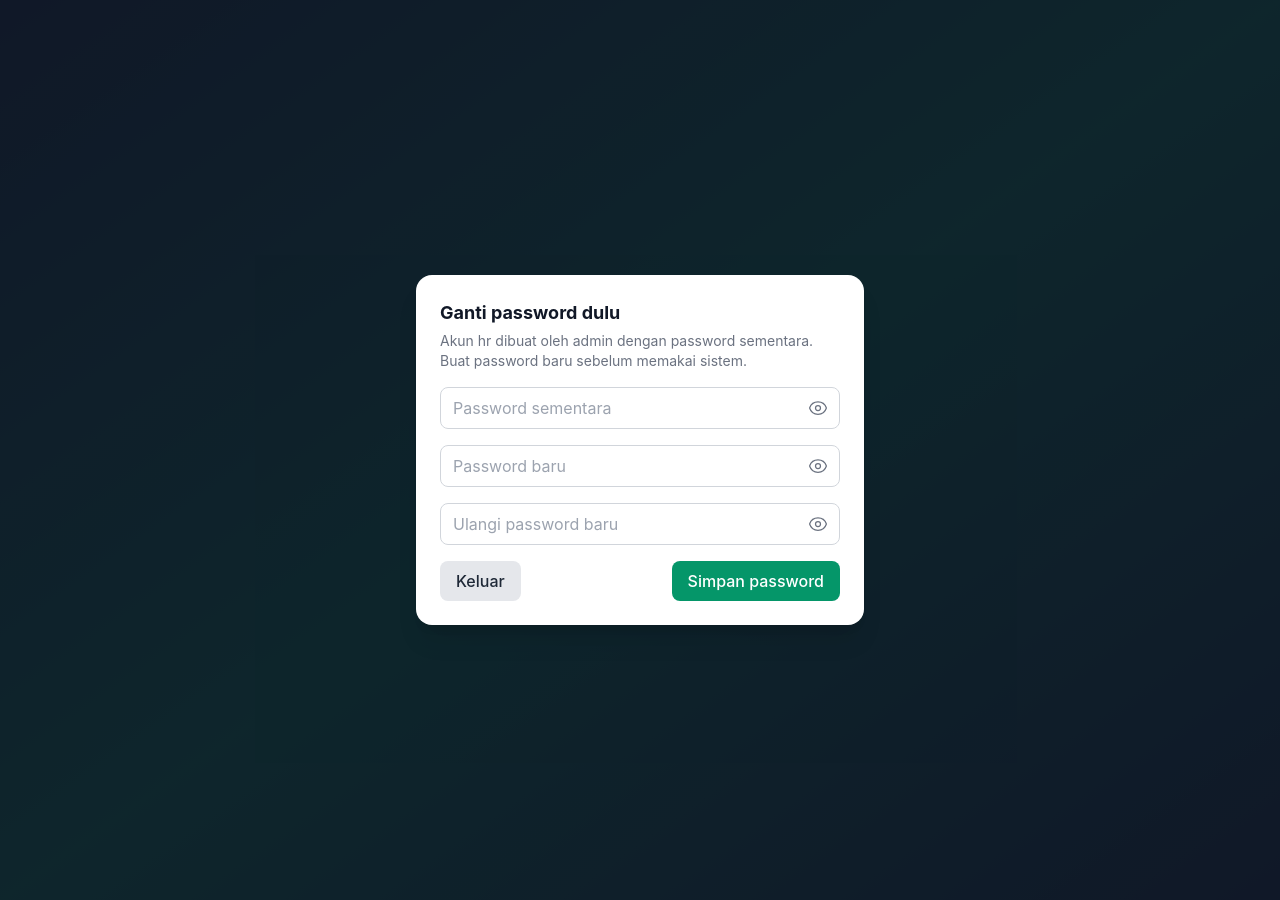
Test case: ForcePasswordChange › shows the server error and keeps the modal on failure
Type "Fengsheng#26" into the password field with placeholder "Password sementara" at {"x": 640, "y": 408}, box [440, 387, 840, 429]
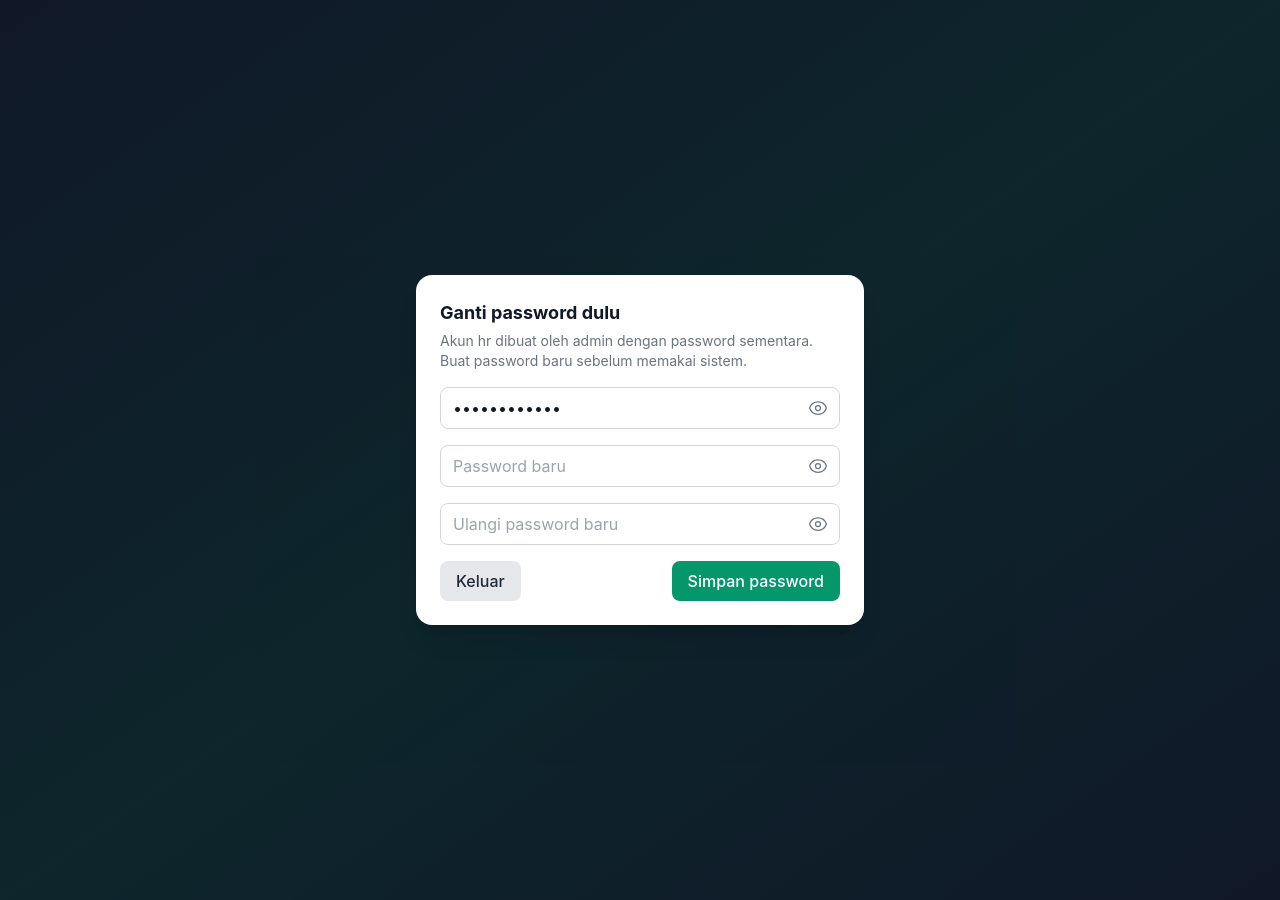
Type "BaruSaja#" into the password field with placeholder "Password baru" at {"x": 640, "y": 466}, box [440, 445, 840, 487]
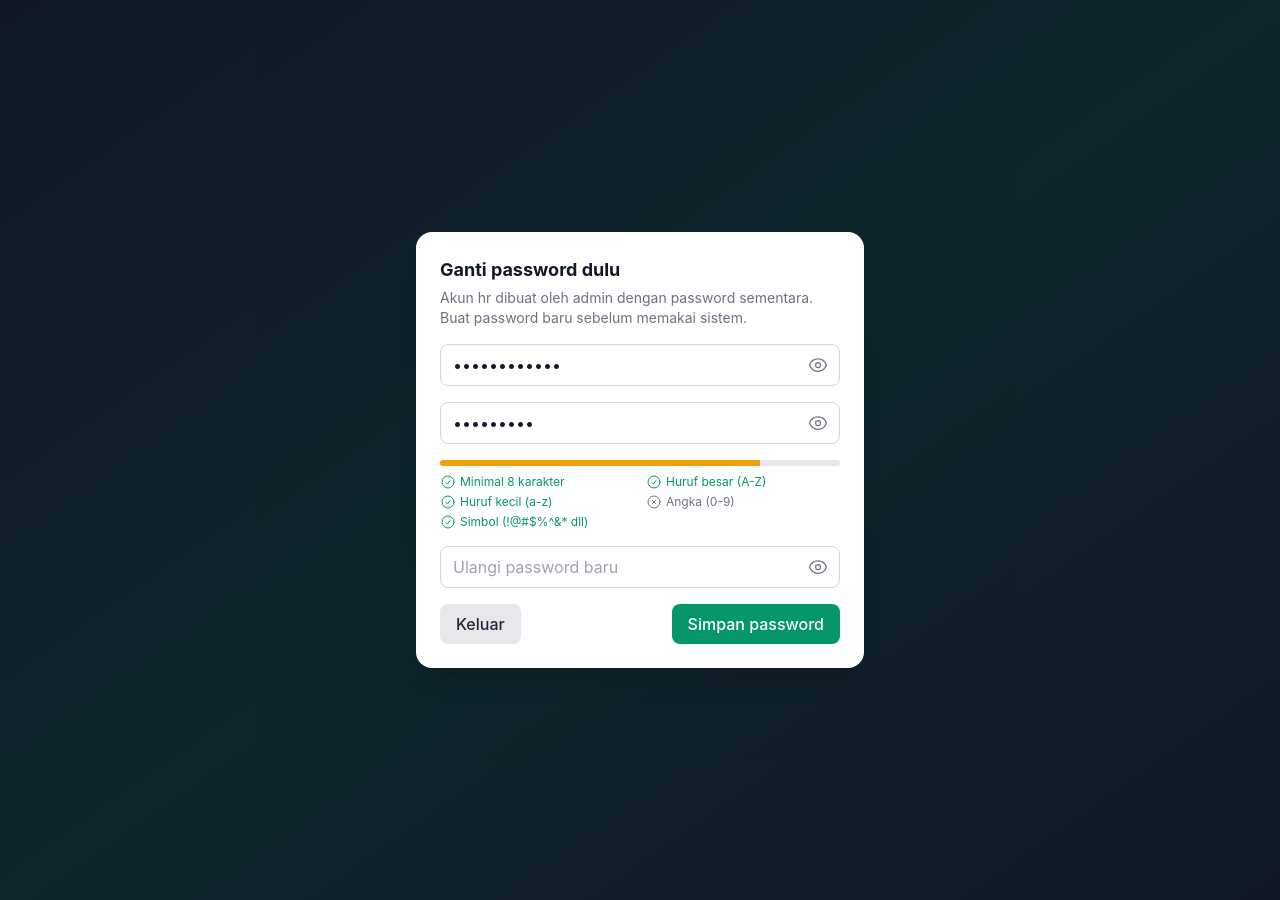
Type "BaruSaja#" into the password field with placeholder "Ulangi password baru" at {"x": 640, "y": 567}, box [440, 546, 840, 588]
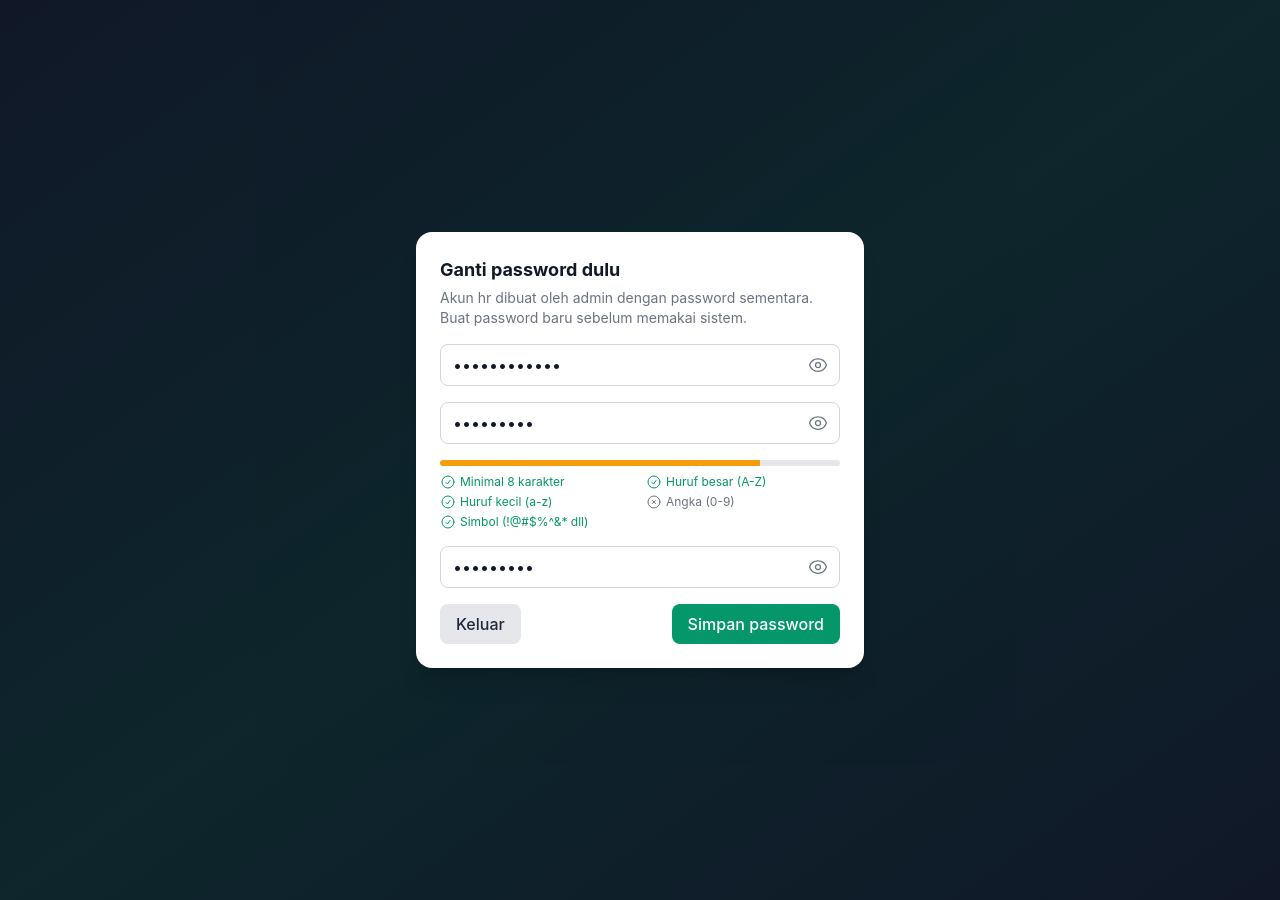
Click the button "Simpan password" at {"x": 756, "y": 624}, box [672, 604, 840, 644]
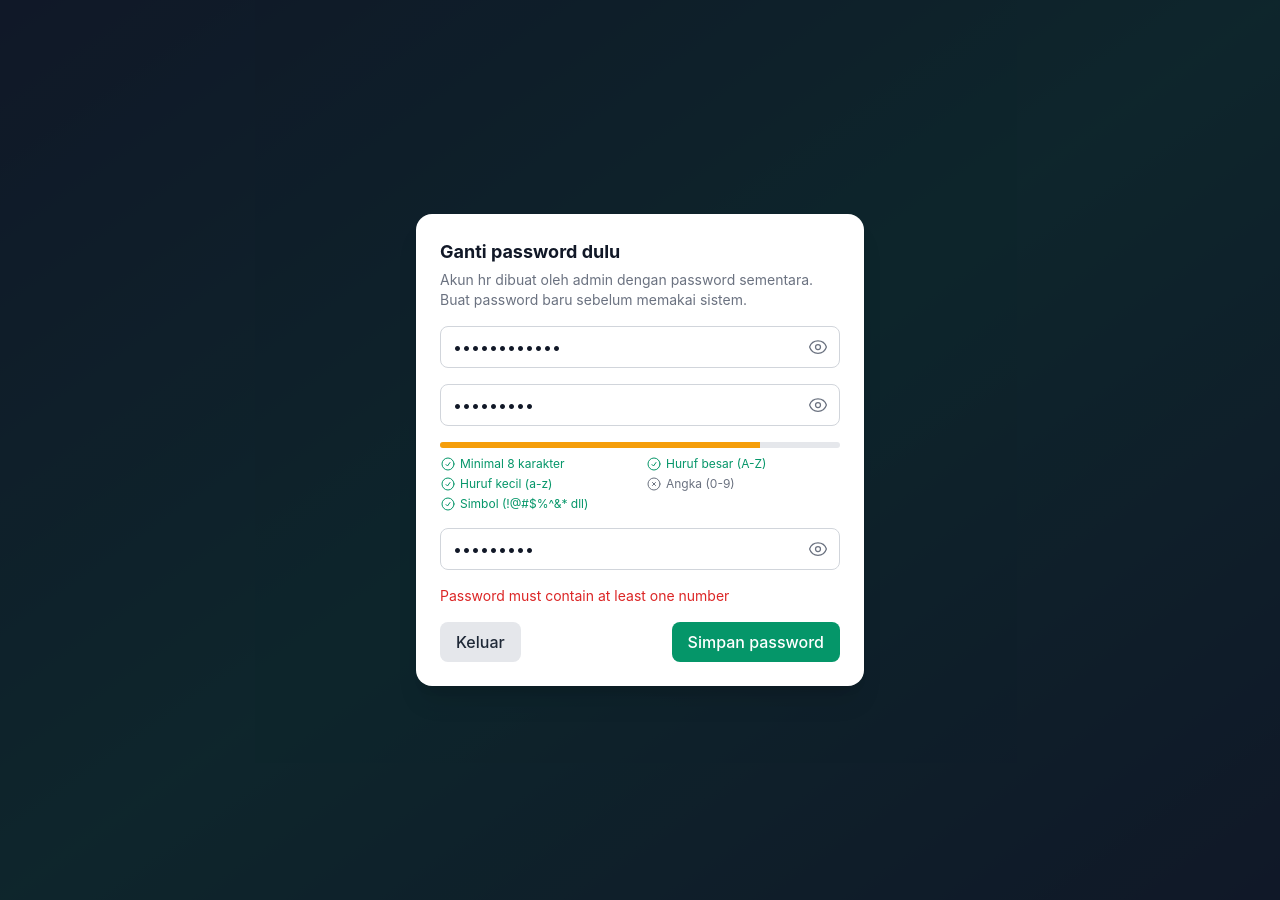
Expected: the heading "Ganti password dulu" is shown, [440, 241, 620, 262]
Now the text "Password must contain at least one number" is shown, box [440, 587, 729, 604]
